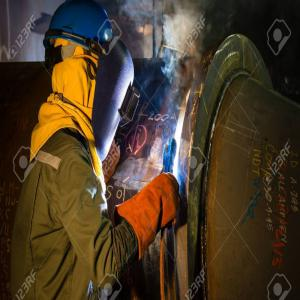blue: (46, 2, 117, 113)
